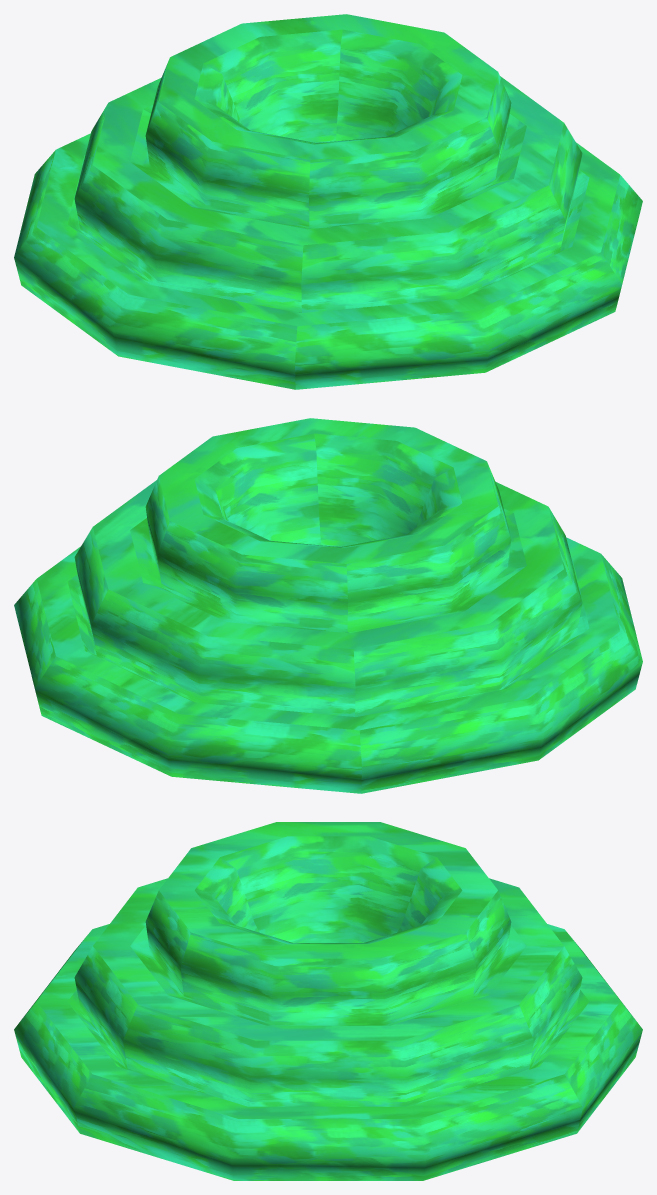
Rendered from item_liana.fbx.
3 views of the same model, one above another, from view 1: azimuth 30°, elevation 25°; view 2: azimuth 150°, elevation 25°; view 3: azimuth 270°, elevation 25° (orthographic). The views are drawn at different scales.
Visible parts, largest first — view 1: Cylinder; view 2: Cylinder; view 3: Cylinder.
Part boxes in pixels (left/top/right/bottom): Cylinder: left=14, top=14, right=642, bottom=389; Cylinder: left=14, top=418, right=642, bottom=793; Cylinder: left=14, top=822, right=642, bottom=1180.
Bounding box in the file's own units: 195 × 60 × 205.
Materials: 1 (1 with a texture image).
